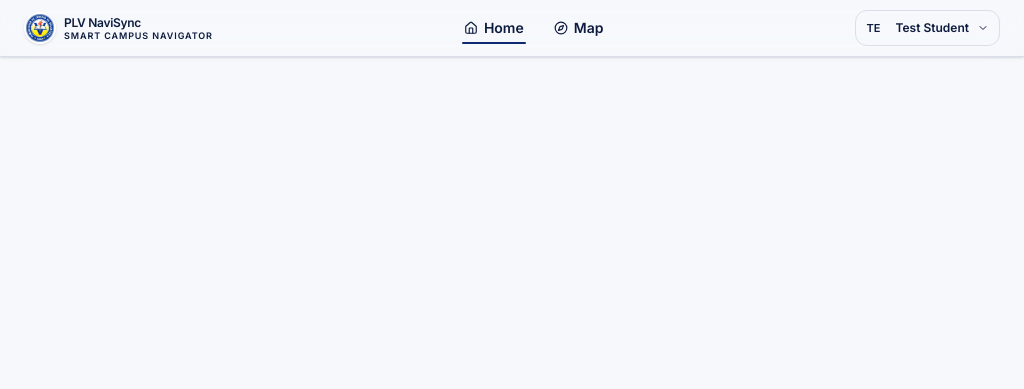
Test case: Navbar student navigation › keeps the account menu focused on account pages and omits Home
This screenshot has width=1024, height=389.
Click the button "TE Test Student" at (927, 28), box 854,10 -> 1000,46
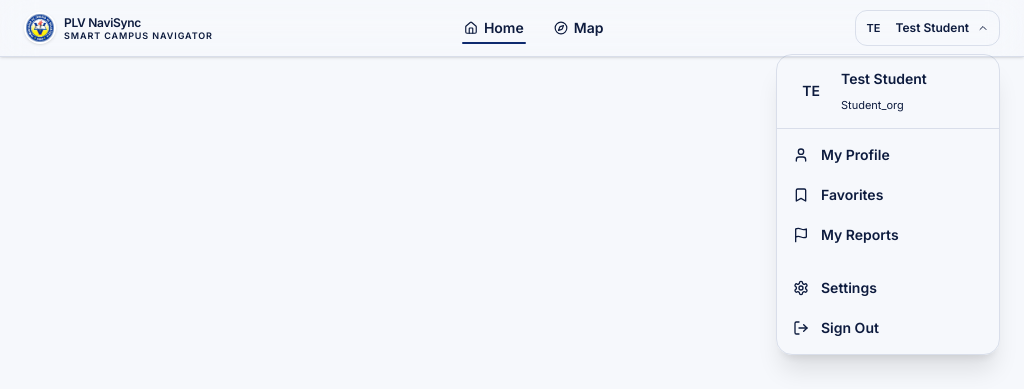
Expected: the number of links "Home" is 1, 462,19 -> 526,44
Expected: the button "Sign Out" is shown, 777,308 -> 999,348
